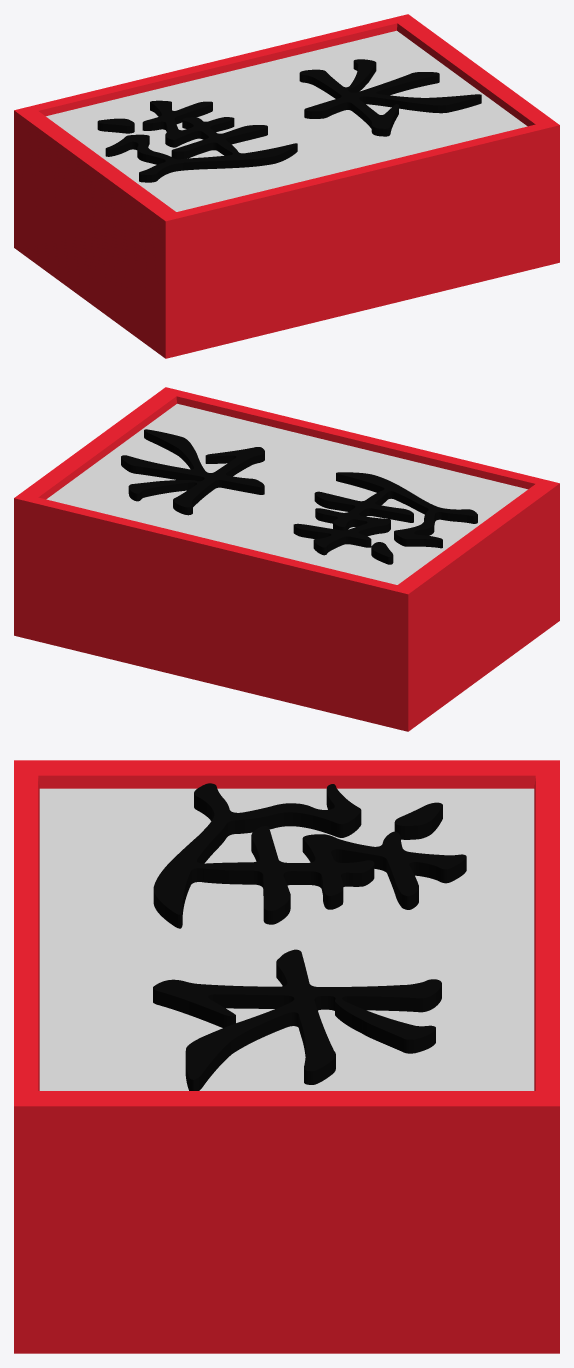
The model's file is 7_lian_zhang.fbx.
3 renders of one model, top to bottom at view 1: azimuth 30°, elevation 25°; view 2: azimuth 150°, elevation 25°; view 3: azimuth 270°, elevation 25°, orthographic. The views are drawn at different scales.
Parts seen in each view (by area): view 1: Cube, 文本; view 2: Cube, 文本; view 3: Cube, 文本.
Boxes of the visible parts, <box> form: Cube: <box>14,14,559,358</box>; 文本: <box>97,59,481,182</box>; Cube: <box>14,387,559,731</box>; 文本: <box>121,429,477,564</box>; Cube: <box>14,760,559,1353</box>; 文本: <box>153,783,466,1090</box>.
Bounding box in the file's own units: 240 × 80.47 × 160.
